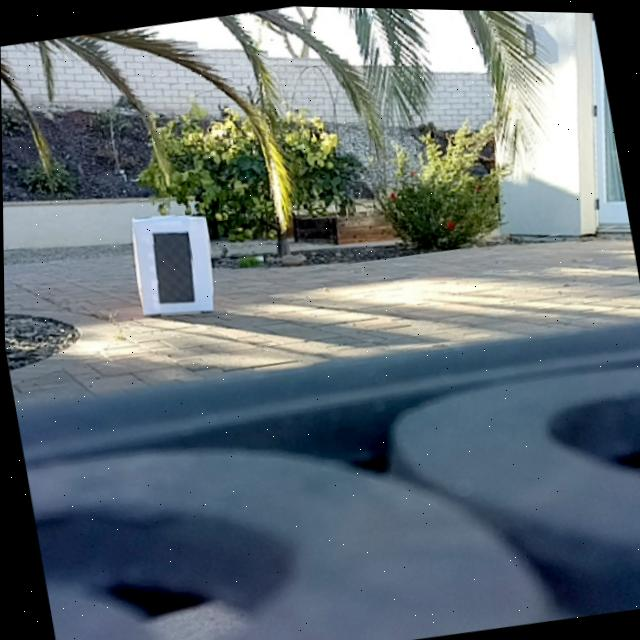led: (148, 225, 199, 306)
